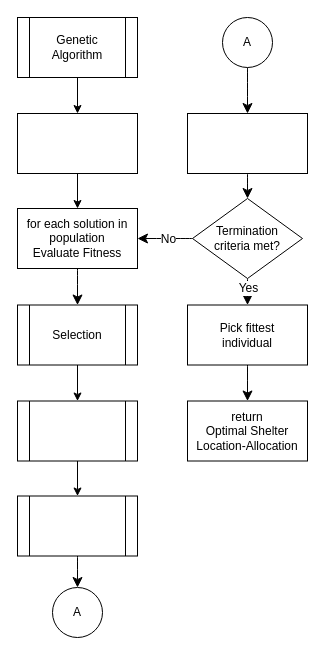
The diagram is 325 pixels wide and 655 high, and some of its shapes have lost their labels. The box of each missing label's shape, as (x1, y1, x2, y2) in pixels:
Crossover: (16, 400, 138, 461)
Initialize Population: (16, 112, 138, 174)
Mutation: (16, 495, 138, 556)
Replace Old Population: (186, 112, 308, 174)
